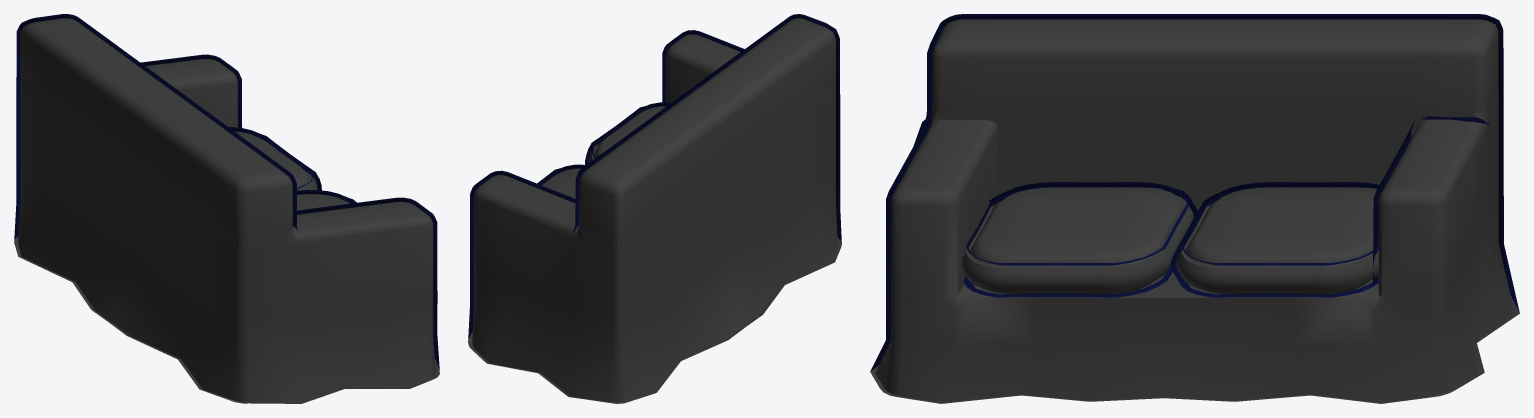
The picture shows the model from 3 angles, left to right: view 1: azimuth 30°, elevation 25°; view 2: azimuth 150°, elevation 25°; view 3: azimuth 270°, elevation 25°; orthographic projection. The views are drawn at different scales.
Parts seen in each view (by area): view 1: Loveseat; view 2: Loveseat; view 3: Loveseat.
Boxes of the visible parts, bbox=[...] form: Loveseat: bbox=[14, 14, 439, 403]; Loveseat: bbox=[468, 14, 841, 403]; Loveseat: bbox=[870, 14, 1519, 403].
Size of the model in its own units: 0.7186 by 0.7247 by 1.54.
